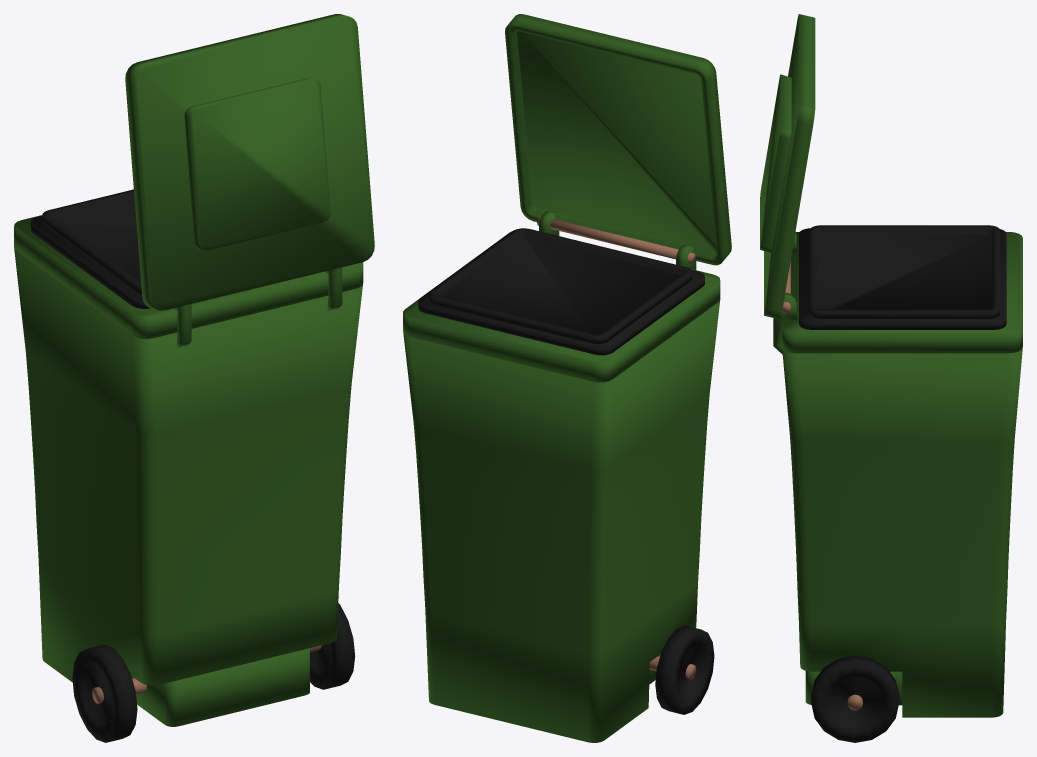
The model's file is smietnikszklo.glb.
The picture shows the model from 3 angles, left to right: view 1: azimuth 30°, elevation 25°; view 2: azimuth 150°, elevation 25°; view 3: azimuth 270°, elevation 25°; orthographic projection. The views are drawn at different scales.
Visible parts, largest first — view 1: Cube.029 -col.001; view 2: Cube.029 -col.001; view 3: Cube.029 -col.001.
Boxes of the visible parts, <box> form: Cube.029 -col.001: <box>14,14,374,742</box>; Cube.029 -col.001: <box>403,14,731,742</box>; Cube.029 -col.001: <box>760,14,1022,742</box>.
Size of the model in its own units: 2.64 by 7.41 by 2.79.
